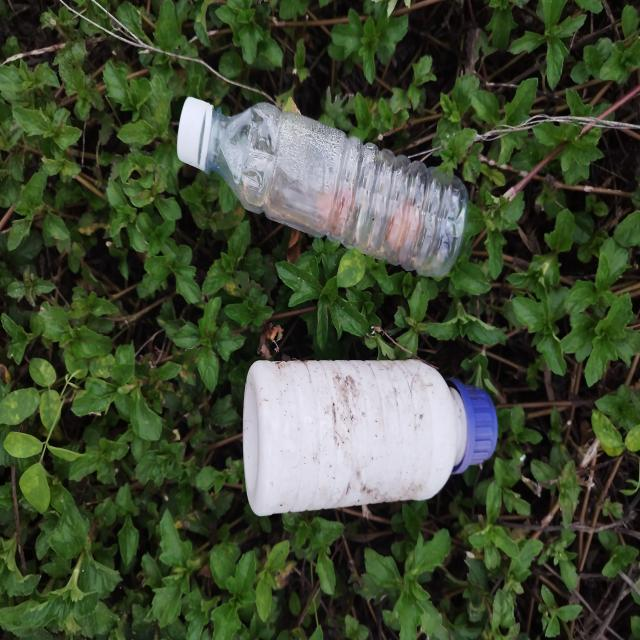bottle: (177, 95, 468, 281), (243, 359, 500, 518)
